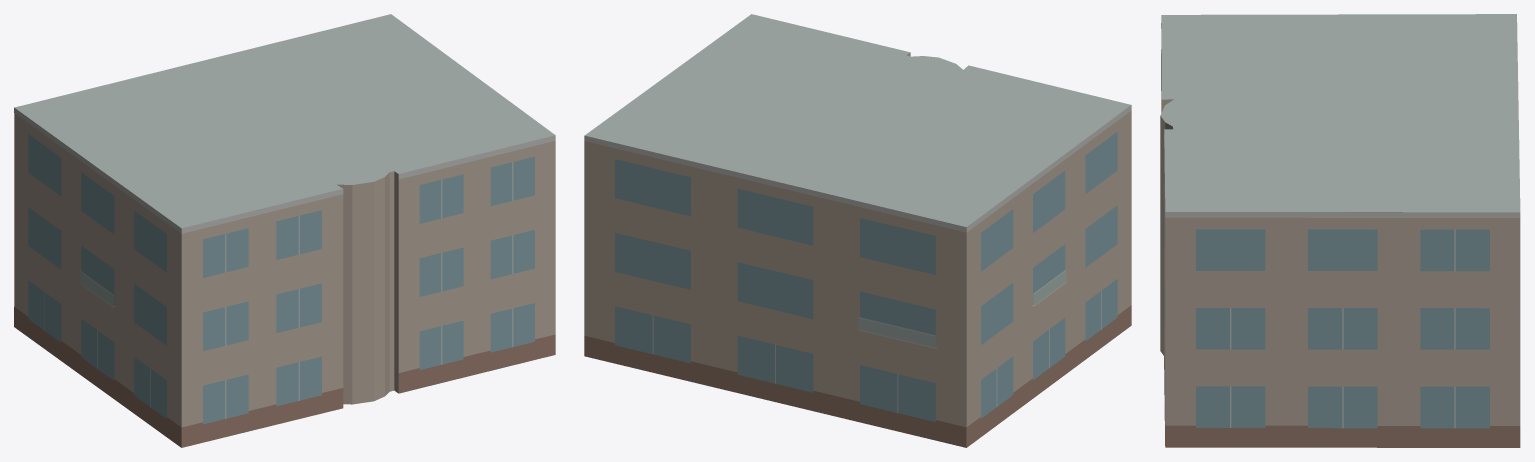
File: survey-upis-32742582.glb
The picture shows the model from 3 angles, left to right: view 1: azimuth 30°, elevation 25°; view 2: azimuth 150°, elevation 25°; view 3: azimuth 270°, elevation 25°; orthographic projection. The views are drawn at different scales.
Visible parts, largest first — view 1: survey-upis-32742582.tmp; view 2: survey-upis-32742582.tmp; view 3: survey-upis-32742582.tmp.
Boxes of the visible parts, bbox=[...] form: survey-upis-32742582.tmp: bbox=[14, 14, 555, 447]; survey-upis-32742582.tmp: bbox=[584, 14, 1131, 447]; survey-upis-32742582.tmp: bbox=[1160, 14, 1520, 447].
Bounding box in the file's own units: 17.88 × 9.9 × 13.71.
